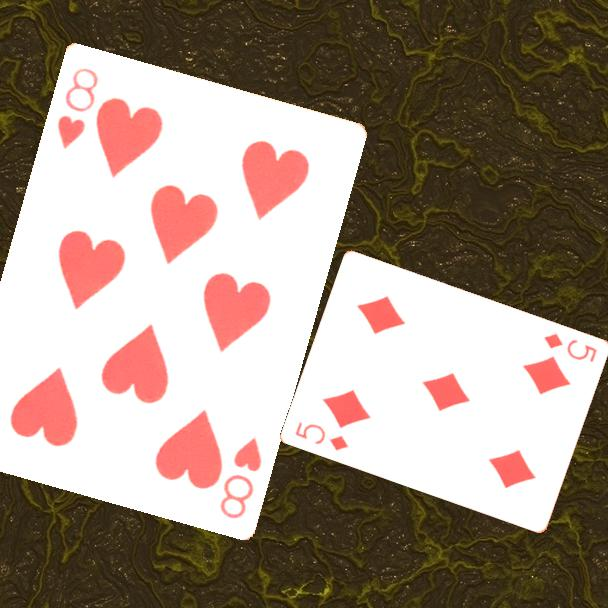d05: (540, 329, 600, 365), (292, 418, 352, 453)
h08: (216, 433, 265, 521), (53, 63, 101, 151)
